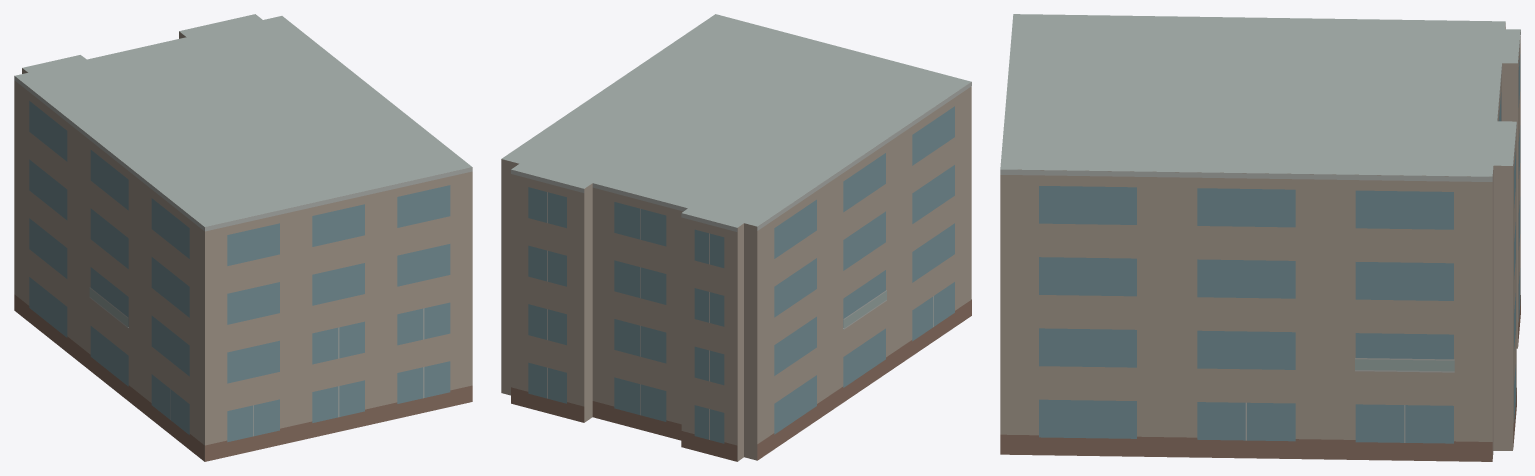
The model's file is survey-upis-32506157.glb.
3 renders of one model, left to right at view 1: azimuth 30°, elevation 25°; view 2: azimuth 150°, elevation 25°; view 3: azimuth 270°, elevation 25°, orthographic. The views are drawn at different scales.
Parts seen in each view (by area): view 1: survey-upis-32506157.tmp; view 2: survey-upis-32506157.tmp; view 3: survey-upis-32506157.tmp.
Part boxes in pixels (<box>): survey-upis-32506157.tmp: <box>14,14,472,461</box>; survey-upis-32506157.tmp: <box>501,14,971,461</box>; survey-upis-32506157.tmp: <box>1000,14,1520,461</box>.
Size of the model in its own units: 15.93 by 13 by 21.52.
